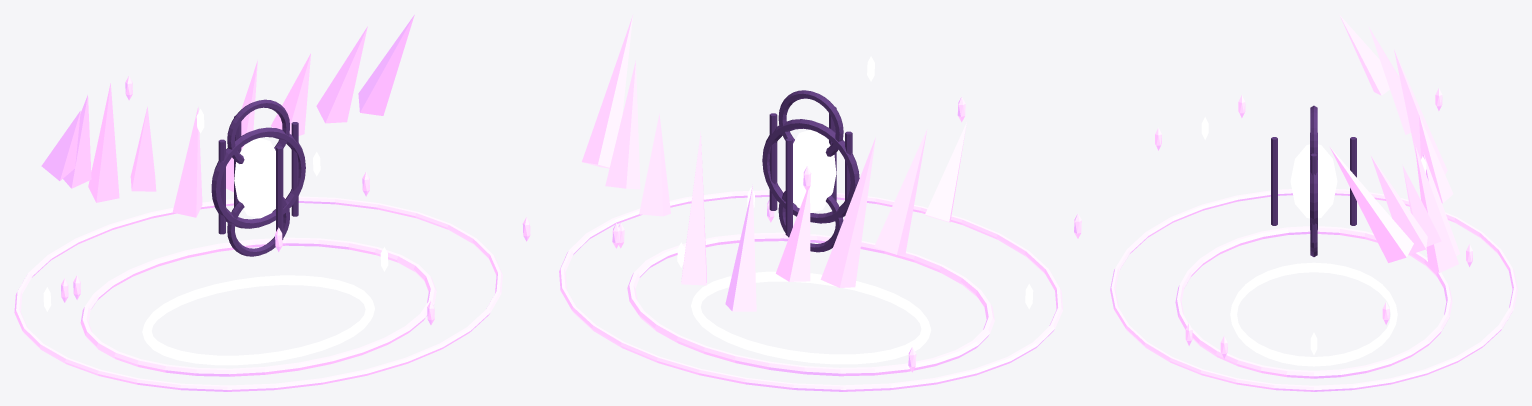
Rendered from echo-throne-fracture-echo.glb.
The picture shows the model from 3 angles, left to right: view 1: azimuth 30°, elevation 25°; view 2: azimuth 150°, elevation 25°; view 3: azimuth 270°, elevation 25°; orthographic projection. The views are drawn at different scales.
Parts seen in each view (by area): view 1: echo-resonance-ring-2, echo-resonance-ring-1, echo-resonance-ring-0, echo-lantern-flame, echo-lantern-cage-mid, echo-fracture-crown-02, echo-fracture-crown-08, echo-fracture-crown-07, echo-fracture-crown-04, echo-fracture-crown-03, echo-fracture-crown-00, echo-fracture-crown-06 (+7 smaller); view 2: echo-resonance-ring-2, echo-resonance-ring-1, echo-resonance-ring-0, echo-fracture-crown-02, echo-fracture-crown-08, echo-lantern-flame, echo-fracture-crown-07, echo-lantern-cage-mid, echo-fracture-crown-01, echo-fracture-crown-04, echo-fracture-crown-05, echo-fracture-crown-03 (+6 smaller); view 3: echo-resonance-ring-2, echo-resonance-ring-1, echo-resonance-ring-0, echo-fracture-crown-08, echo-lantern-flame, echo-fracture-crown-05, echo-fracture-crown-07, echo-fracture-crown-02, echo-fracture-crown-00, echo-fracture-crown-03, echo-fracture-crown-01, echo-fracture-crown-06 (+5 smaller).
Part boxes in pixels (left/top/right/bottom): echo-resonance-ring-2: left=14, top=196, right=502, bottom=391; echo-resonance-ring-1: left=80, top=237, right=436, bottom=376; echo-resonance-ring-0: left=142, top=275, right=374, bottom=365; echo-lantern-flame: left=234, top=138, right=275, bottom=218; echo-lantern-cage-mid: left=211, top=127, right=305, bottom=228; echo-fracture-crown-02: left=88, top=83, right=119, bottom=202; echo-fracture-crown-08: left=358, top=15, right=414, bottom=115; echo-fracture-crown-07: left=316, top=26, right=367, bottom=123; echo-fracture-crown-04: left=172, top=107, right=202, bottom=217; echo-fracture-crown-03: left=130, top=106, right=156, bottom=191; echo-fracture-crown-00: left=41, top=111, right=80, bottom=180; echo-fracture-crown-06: left=271, top=53, right=310, bottom=135; echo-resonance-ring-2: left=559, top=190, right=1062, bottom=391; echo-resonance-ring-1: left=627, top=232, right=994, bottom=376; echo-resonance-ring-0: left=691, top=271, right=931, bottom=364; echo-fracture-crown-02: left=820, top=138, right=875, bottom=287; echo-fracture-crown-08: left=582, top=15, right=632, bottom=168; echo-lantern-flame: left=793, top=130, right=836, bottom=212; echo-fracture-crown-07: left=605, top=60, right=640, bottom=189; echo-lantern-cage-mid: left=762, top=119, right=859, bottom=223; echo-fracture-crown-01: left=874, top=129, right=927, bottom=254; echo-fracture-crown-04: left=725, top=185, right=756, bottom=311; echo-fracture-crown-05: left=681, top=131, right=706, bottom=285; echo-fracture-crown-03: left=776, top=187, right=810, bottom=281; echo-resonance-ring-2: left=1110, top=189, right=1517, bottom=391; echo-resonance-ring-1: left=1175, top=226, right=1452, bottom=378; echo-resonance-ring-0: left=1230, top=262, right=1397, bottom=366; echo-fracture-crown-08: left=1329, top=146, right=1413, bottom=262; echo-lantern-flame: left=1290, top=144, right=1337, bottom=218; echo-fracture-crown-05: left=1415, top=145, right=1458, bottom=272; echo-fracture-crown-07: left=1371, top=156, right=1427, bottom=255; echo-fracture-crown-02: left=1394, top=49, right=1447, bottom=174; echo-fracture-crown-00: left=1339, top=15, right=1389, bottom=95; echo-fracture-crown-03: left=1419, top=115, right=1453, bottom=203; echo-fracture-crown-01: left=1368, top=26, right=1410, bottom=134; echo-fracture-crown-06: left=1402, top=165, right=1441, bottom=246.
Bounding box in the file's own units: 3.5 × 1.98 × 2.95.
